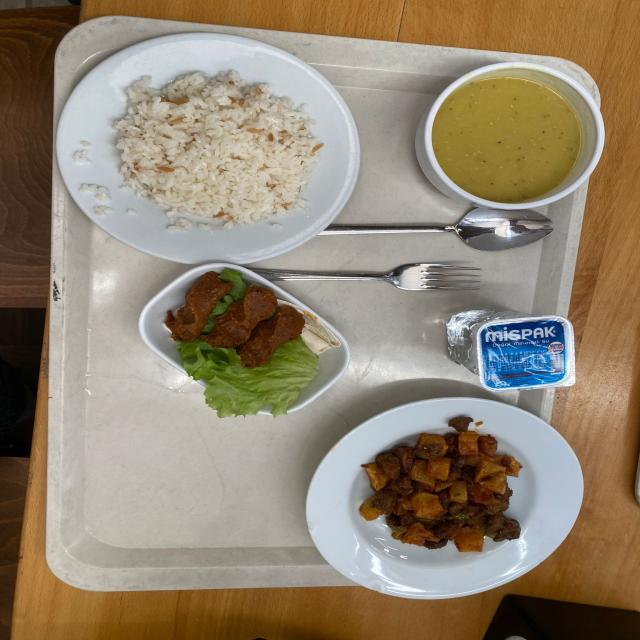ana_yemek: (65, 44, 343, 256), (316, 410, 576, 600)
corba: (411, 66, 597, 216)
yan_yemek: (149, 271, 332, 426)
